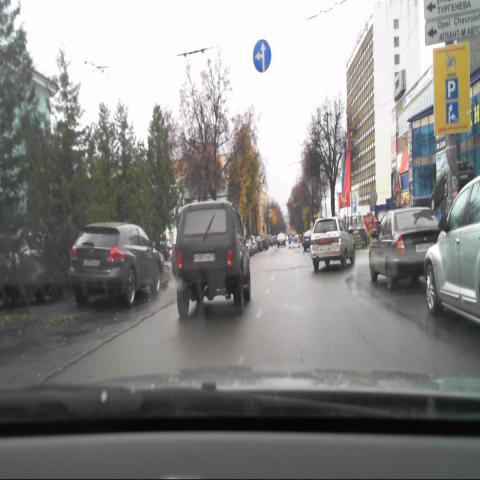4_1_5: (252, 39, 271, 73)
6_4: (446, 78, 458, 97)
